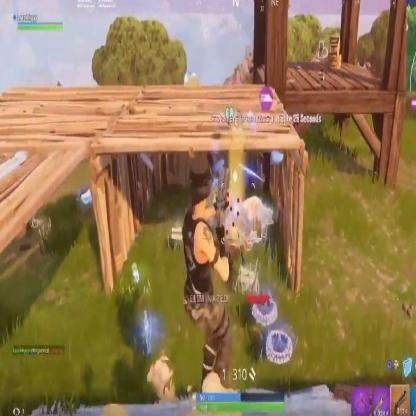player: (183, 151, 232, 400)
